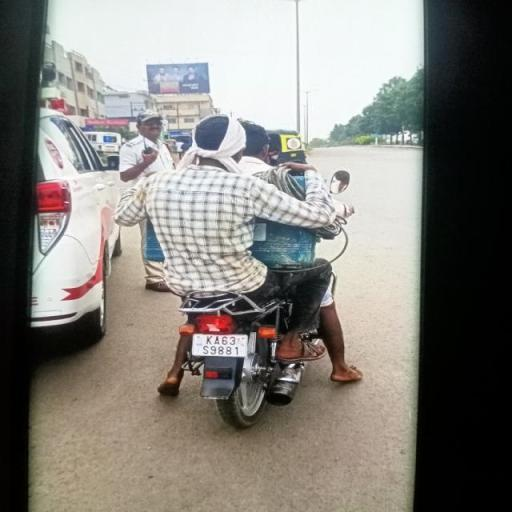bike: (126, 115, 359, 436)
numberplate: (188, 335, 246, 358)
withouthelmet: (189, 117, 242, 160), (243, 124, 267, 158)
